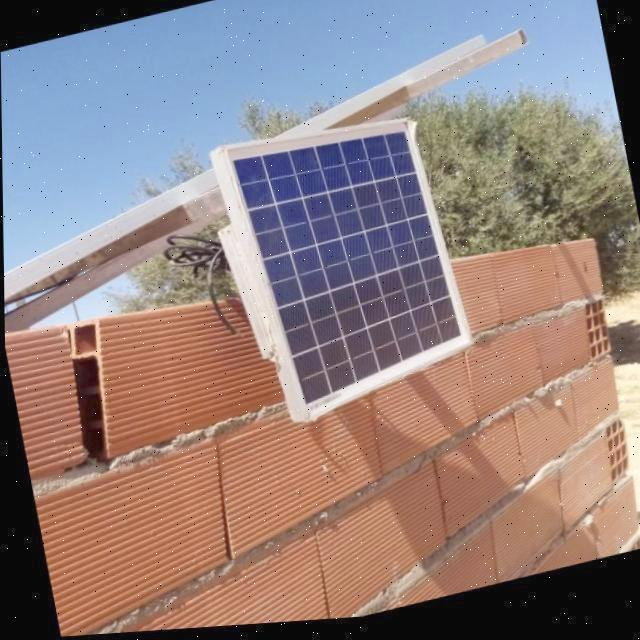Normal Solar Panel: (220, 102, 480, 434)
